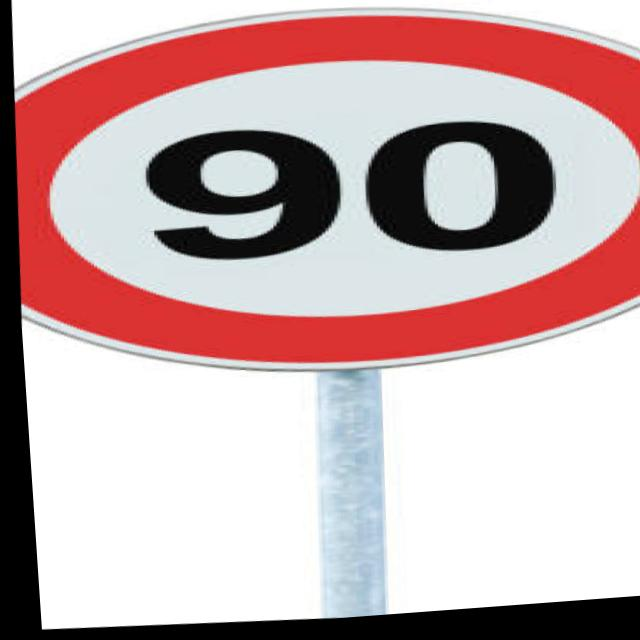Speed Limit -90-: (1, 0, 640, 409)
